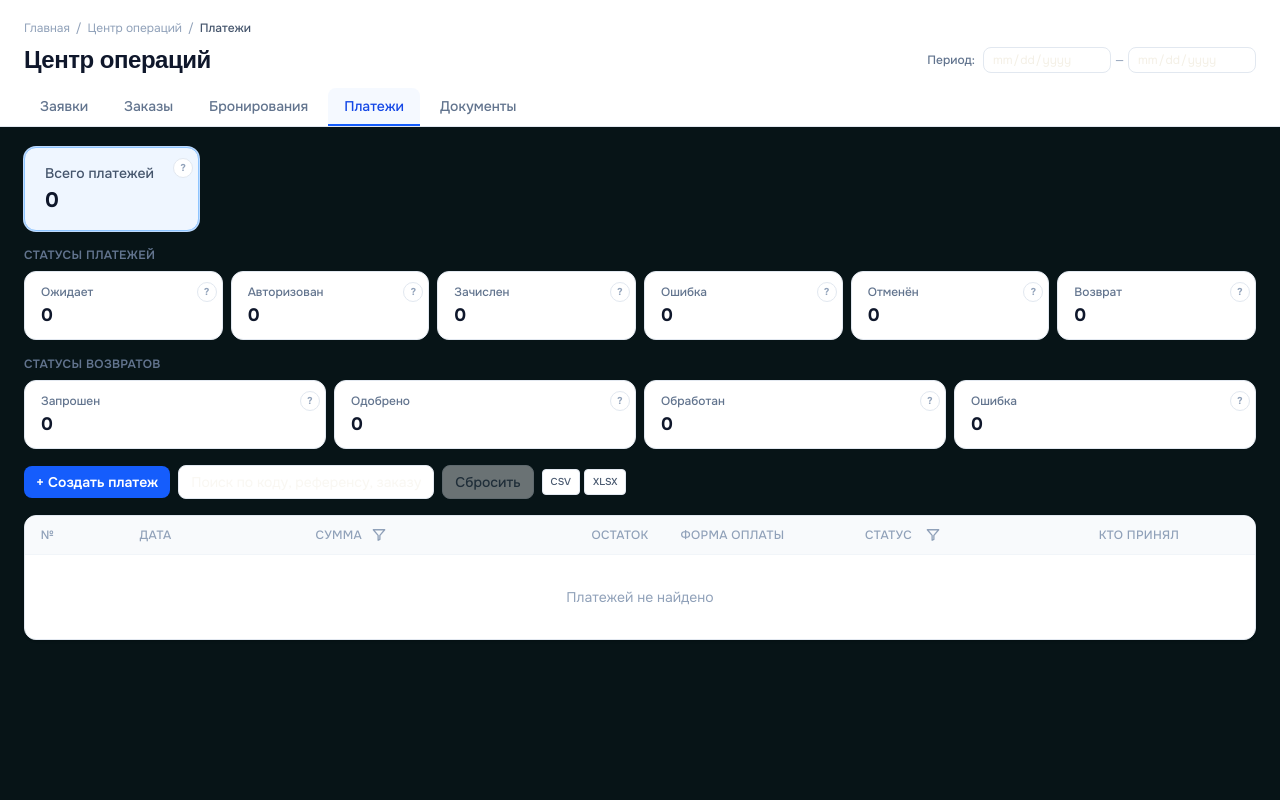
Test: AC-3/AC-4/AC-8/AC-9 — form → POST → refresh registry › кнопка открывает форму; POST обновляет registry (фильтры сохраняются load())
The width and height of the screenshot is (1280, 800).
Step 1. Click the button with test id "payments-create-button" → (97, 482), box [24,466,170,498]
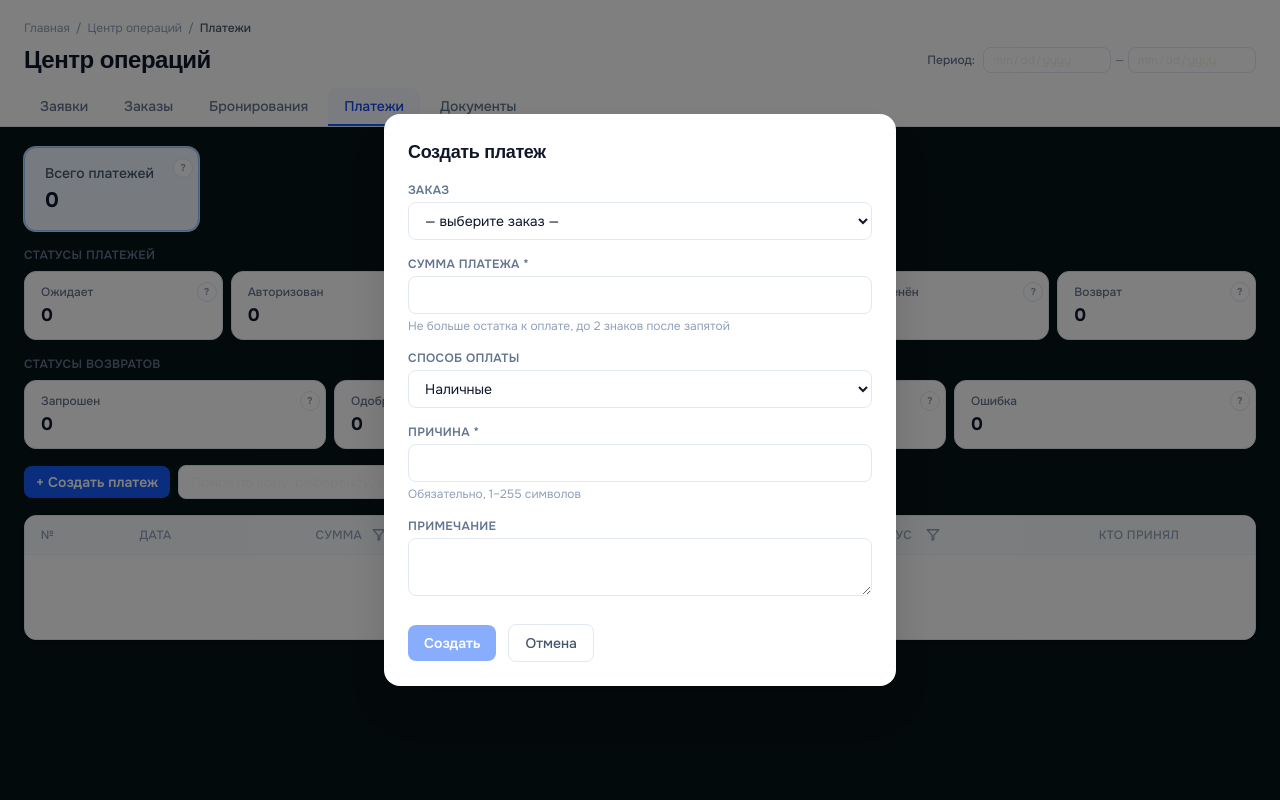
Step 2. Select "MKT-ORD-0001 · 1 250,00 AZN" in the dropdown with test id "create-payment-order-select" → (640, 221), box [408,202,872,240]
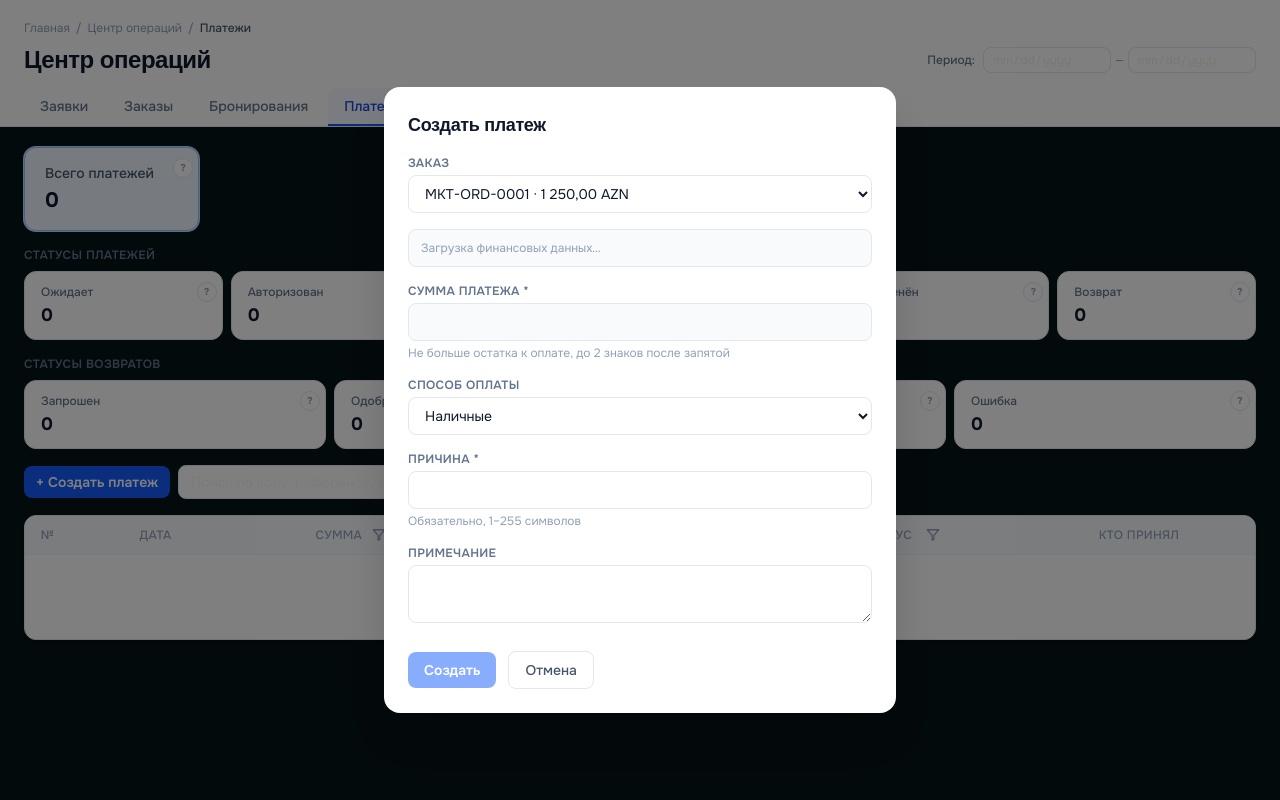
Step 3. Type "Оплата" into the field with test id "create-payment-reason" → (640, 490), box [408,471,872,509]
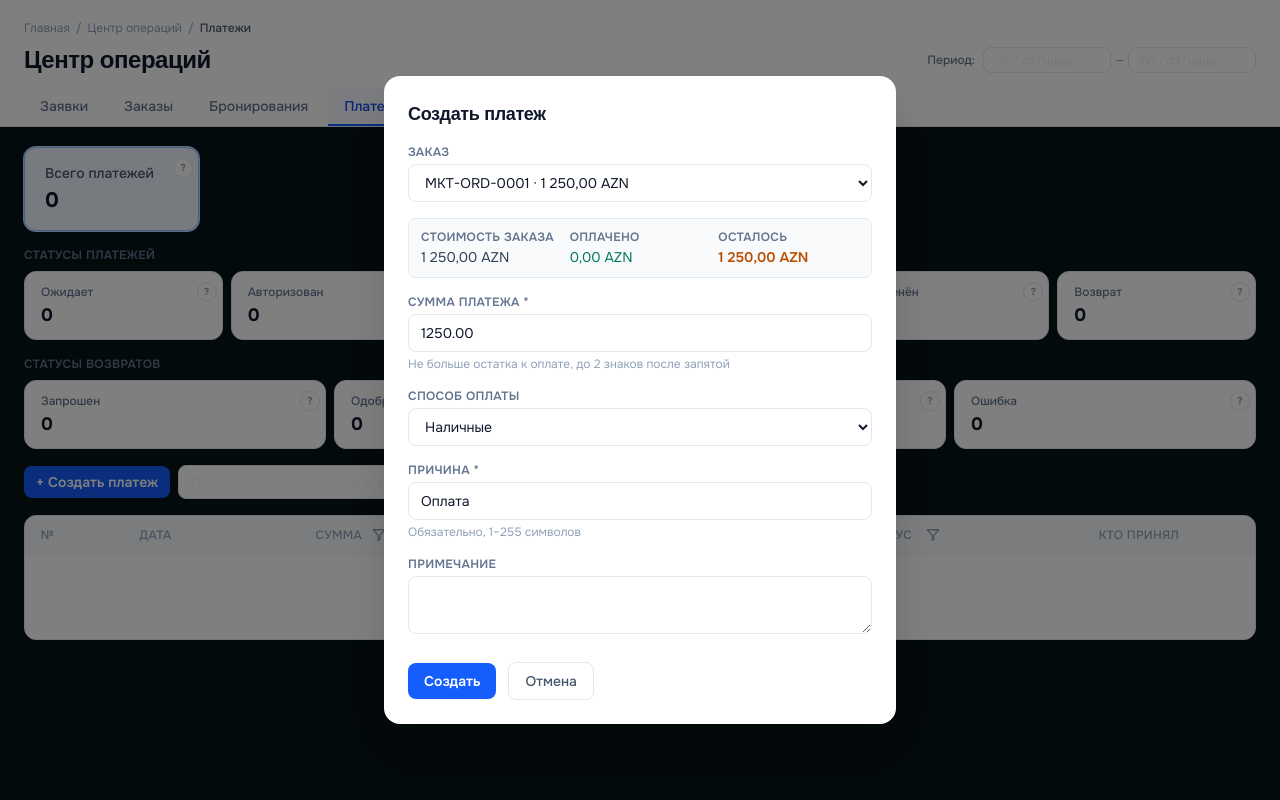
Now the button with test id "create-payment-submit" is enabled
Step 4. Click the button with test id "create-payment-submit" → (452, 681), box [408,663,496,699]
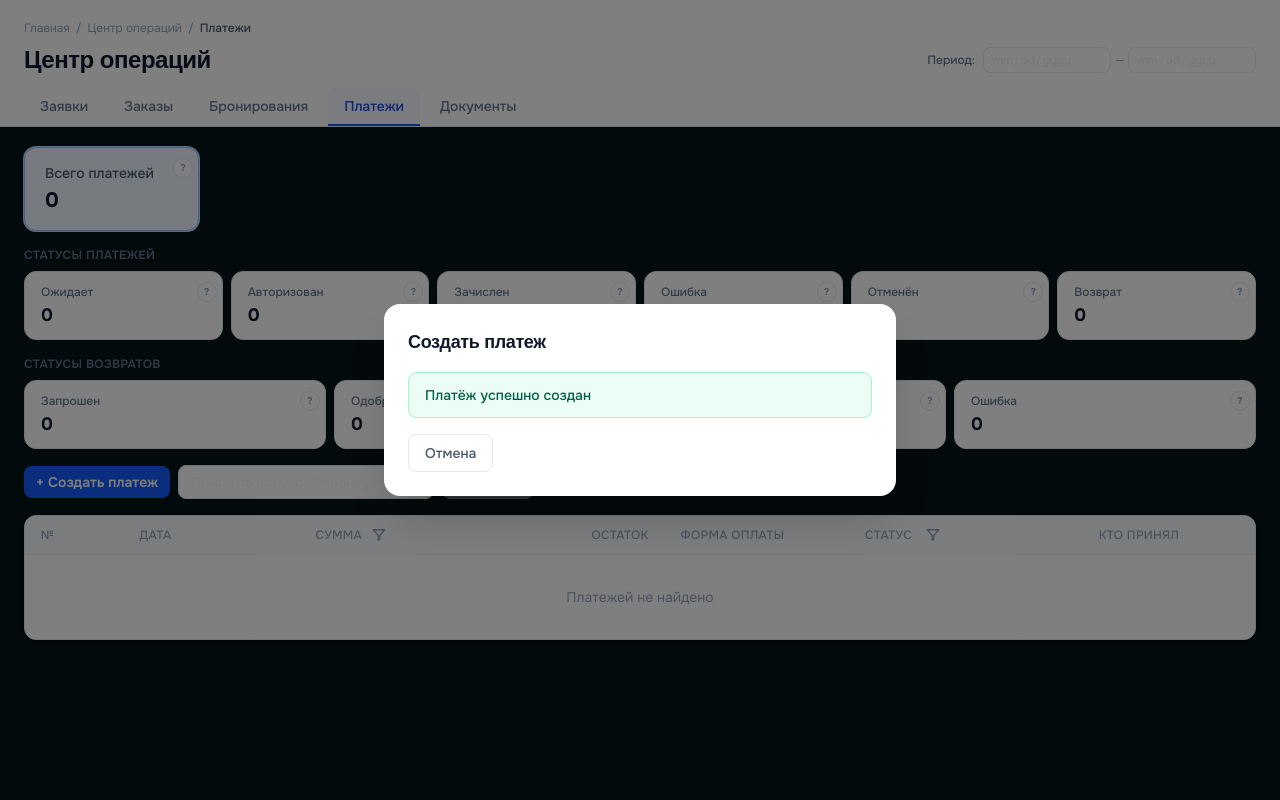
Now the text "Платёж успешно создан" is shown, box [408,372,872,418]
